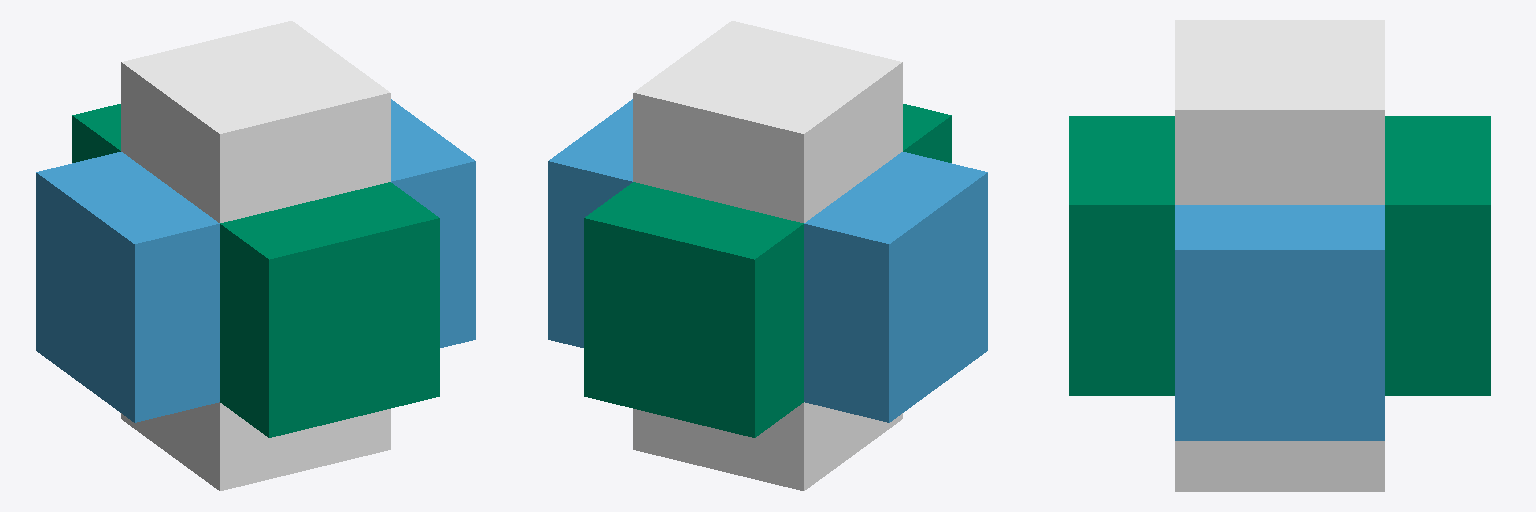
The robot description file, URDF, robot "chechsr":
<?xml version="1.0" ?>

<robot name="chechsr">

    <link name="base_link"></link>

    <joint name="base_joint" type="fixed">
        <parent link="base_link"/>                                                                      
        <child link="platex"/>
        <origin xyz= "0 0 0" rpy="0 0 0" />
    </joint>
      
    <link name="platex">
        <visual>
  	    <origin xyz="0 0 0" rpy="0 0 0" />
	    <geometry> <box size="0.1 0.05 0.05"/> </geometry>
	</visual>
	<collision>
	    <origin xyz="0 0 0" rpy="0 0 0" />
	    <geometry> <box size="0.1 0.05 0.05"/> </geometry>
	</collision>
	<inertial>
	    <origin xyz="0 0 0" rpy="0 0 0" />
	    <mass value="0.1" />
	    <inertia ixx="0.001" ixy="0" ixz="0" iyy="0.001" iyz="0" izz="0.001" />
	</inertial>
    </link>
    <gazebo reference="platex"> <material>Gazebo/Green</material> </gazebo>

    <joint name="joint1" type="fixed">
        <parent link="platex"/>
	<child  link="platey"/>
	<origin xyz="0 0 0" rpy="0 0 0"/>
    </joint>

    <link name="platey">
        <visual>
	    <origin xyz="0 0 0" rpy="0 0 0" />
	    <geometry> <box size="0.05 0.1 0.05"/> </geometry>
	</visual>
	<collision>
            <origin xyz="0 0 0" rpy="0 0 0" />
	    <geometry> <box size="0.05 0.1 0.05"/> </geometry>
	</collision>
	<inertial>
	    <origin xyz="0 0 0" rpy="0 0 0" />
	    <mass value="0.1" />
	    <inertia ixx="0.001" ixy="0" ixz="0" iyy="0.001" iyz="0" izz="0.001" />
	</inertial>
    </link>
    <gazebo reference="platey"> <material>Gazebo/Green</material> </gazebo>

    <joint name="joint2" type="fixed">
        <parent link="platex"/>
	<child  link="platez"/>
	<origin xyz="0 0 0" rpy="0 0 0"/>
    </joint>

    <link name="platez">
        <visual>
	    <origin xyz="0 0 0" rpy="0 0 0" />
	    <geometry> <box size="0.05 0.05 0.1"/> </geometry>
	    <material name=""> <color rgba="1.0 1.0 1.0 1.0" /> </material>
	</visual>
	<collision>
            <origin xyz="0 0 0" rpy="0 0 0" />
	    <geometry> <box size="0.05 0.05 0.1"/> </geometry>
	</collision>
	<inertial>
	    <origin xyz="0 0 0" rpy="0 0 0" />
	    <mass value="0.1" />
	    <inertia ixx="0.001" ixy="0" ixz="0" iyy="0.001" iyz="0" izz="0.001" />
	</inertial>
    </link>
    <gazebo reference="platez"> <material>Gazebo/Green</material> </gazebo>

</robot>

--- What the picture shows (computed from the rendered views, not written in the file) ---
Views: 3 orthographic renders of the robot side by side, from view 1: azimuth 30°, elevation 25°; view 2: azimuth 150°, elevation 25°; view 3: azimuth 270°, elevation 25°.
Model chechsr with 4 links and 3 joints (3 fixed), rooted at base_link, posed all joints at 0.
Links seen in each view (by area): view 1: platez, platex, platey; view 2: platez, platex, platey; view 3: platey, platex, platez.
Link boxes in pixels (<box>): platez: <box>121,21,390,490</box>; platex: <box>36,99,475,422</box>; platey: <box>72,104,439,437</box>; platez: <box>633,21,902,490</box>; platex: <box>548,99,987,422</box>; platey: <box>584,104,951,437</box>; platey: <box>1069,116,1490,395</box>; platex: <box>1175,205,1384,440</box>; platez: <box>1175,20,1384,491</box>.
Bounding box of the posed robot: 0.1 × 0.1 × 0.1 m (x, y, z).
Geometry: primitives only (box / cylinder / sphere), no mesh files.
